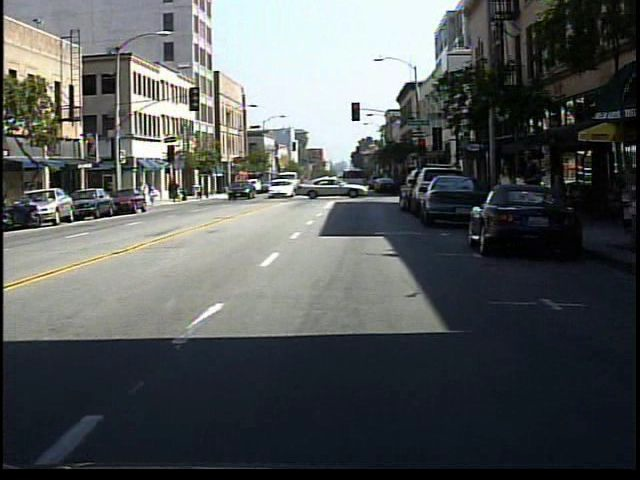person: (513, 149, 542, 242), (495, 158, 518, 237), (149, 180, 162, 206)
